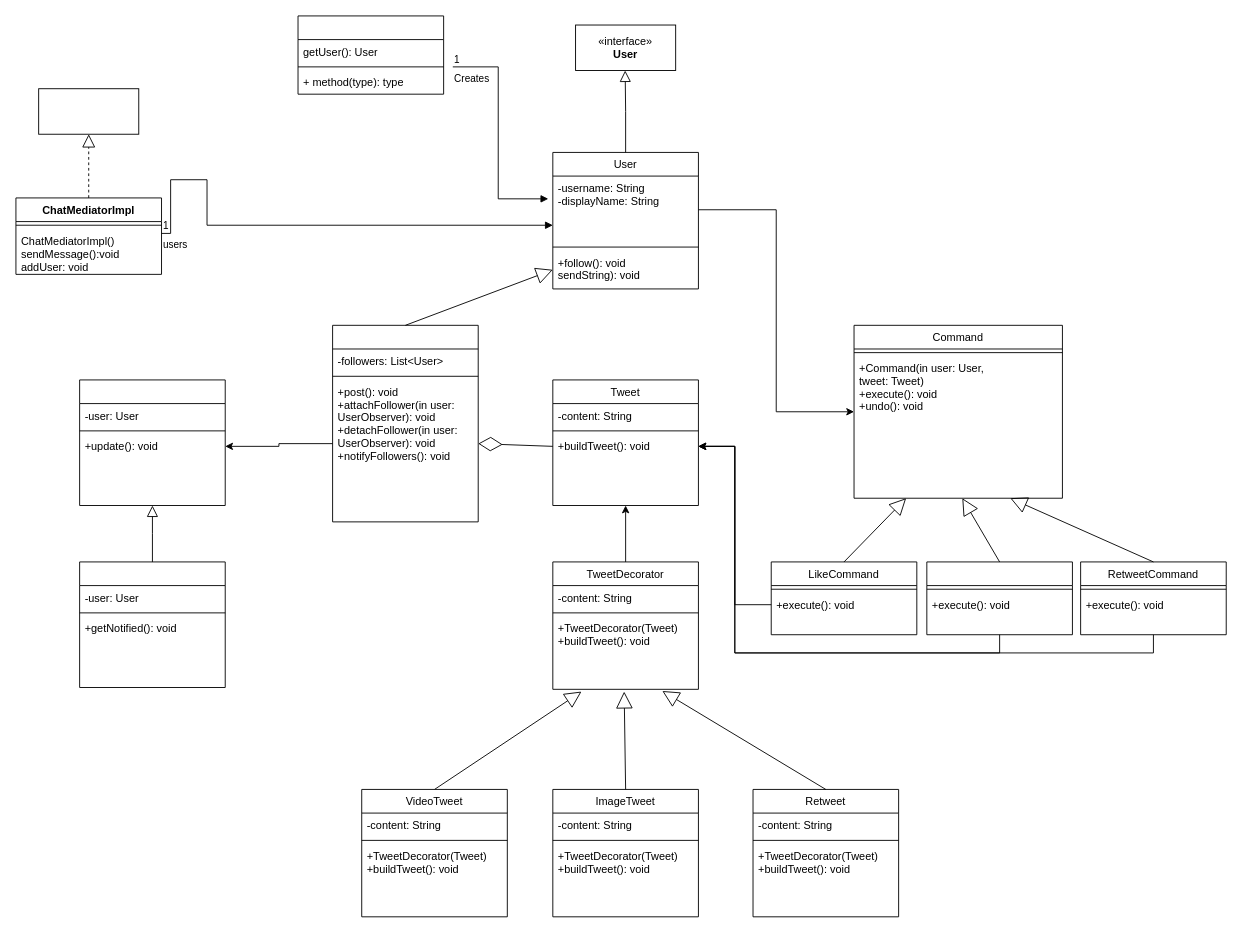
This 1242x935 diagram has some shape labels left out. Each missing label, with the box of its shape:
Follower: (79, 561, 225, 688)
ReportCommand: (926, 561, 1072, 635)
UserFactory: (297, 15, 444, 94)
UserObserver: (79, 379, 225, 506)
UserSubject: (332, 324, 478, 522)
«interface» ChatMediator: (38, 88, 139, 134)
